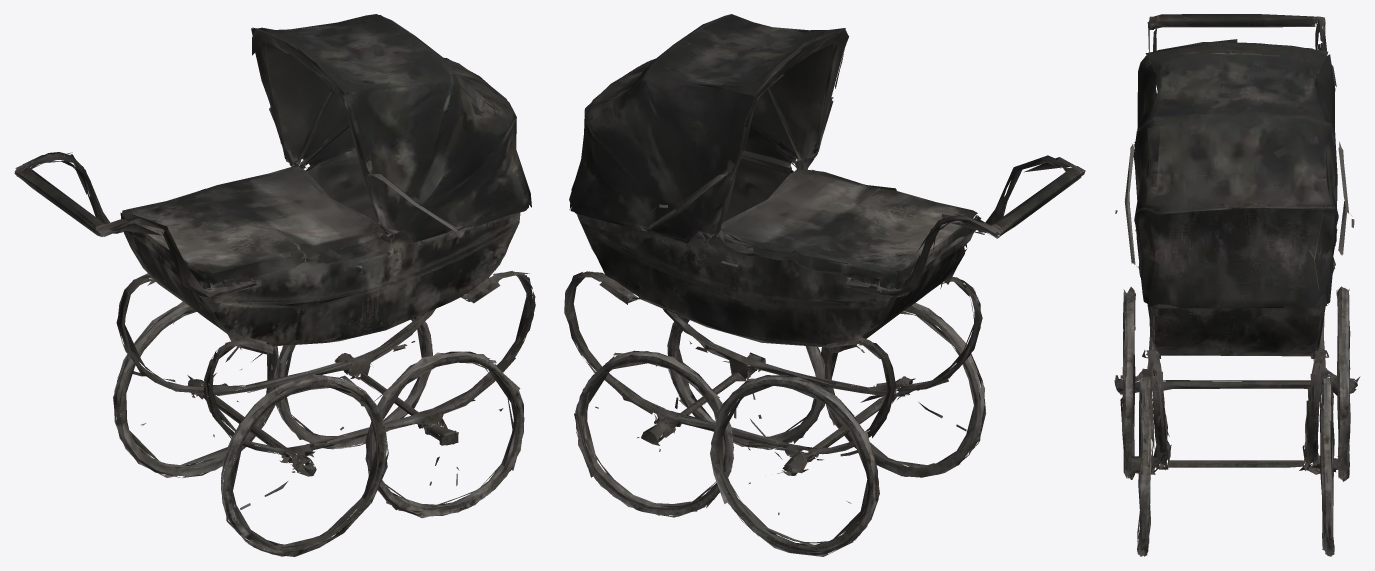
Rendered from pram.glb.
3 renders of one model, left to right at view 1: azimuth 30°, elevation 25°; view 2: azimuth 150°, elevation 25°; view 3: azimuth 270°, elevation 25°, orthographic.
Parts seen in each view (by area): view 1: Mesh_0; view 2: Mesh_0; view 3: Mesh_0.
Boxes of the visible parts, bbox=[...] form: Mesh_0: bbox=[14, 14, 535, 556]; Mesh_0: bbox=[564, 14, 1085, 556]; Mesh_0: bbox=[1114, 14, 1360, 556].
Size of the model in its own units: 1.89 by 1.88 by 0.9151.
Materials: 1 (1 with a texture image).
